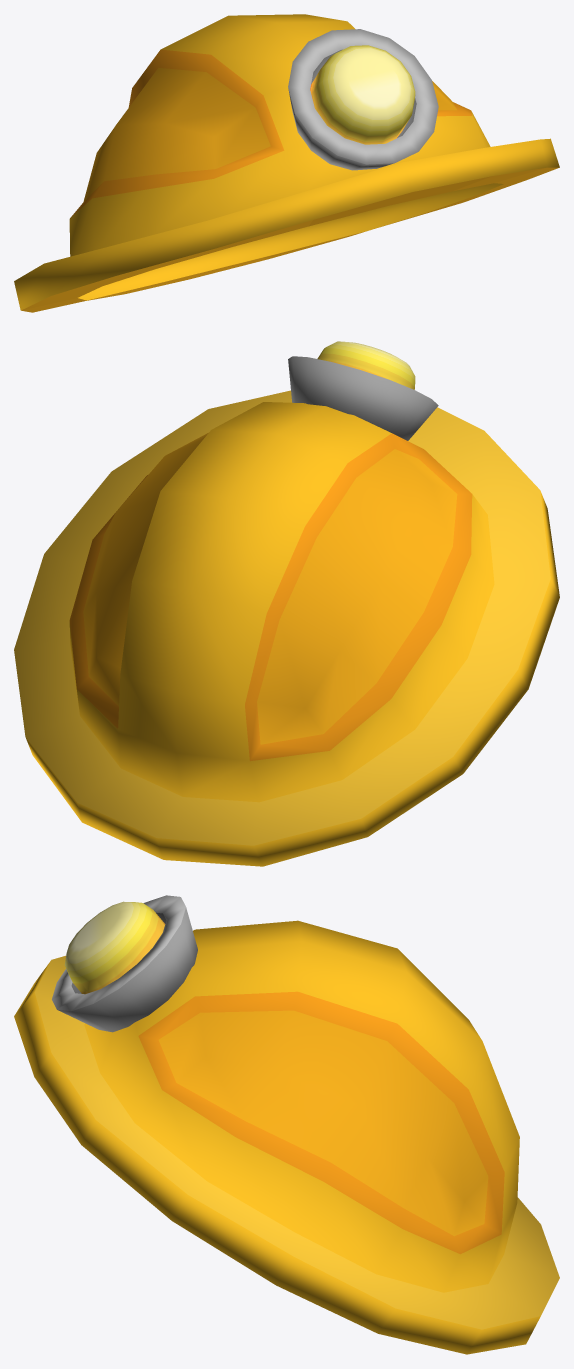
File: Hat001.fbx
3 renders of one model, top to bottom at view 1: azimuth 30°, elevation 25°; view 2: azimuth 150°, elevation 25°; view 3: azimuth 270°, elevation 25°, orthographic. The views are drawn at different scales.
Parts seen in each view (by area): view 1: Hat001; view 2: Hat001; view 3: Hat001.
Boxes of the visible parts, box(x1,y1,x2,y2) form: Hat001: box(14, 14, 559, 312); Hat001: box(14, 341, 559, 866); Hat001: box(14, 895, 559, 1354).
Bounding box in the file's own units: 1.57 × 1.18 × 1.46.
